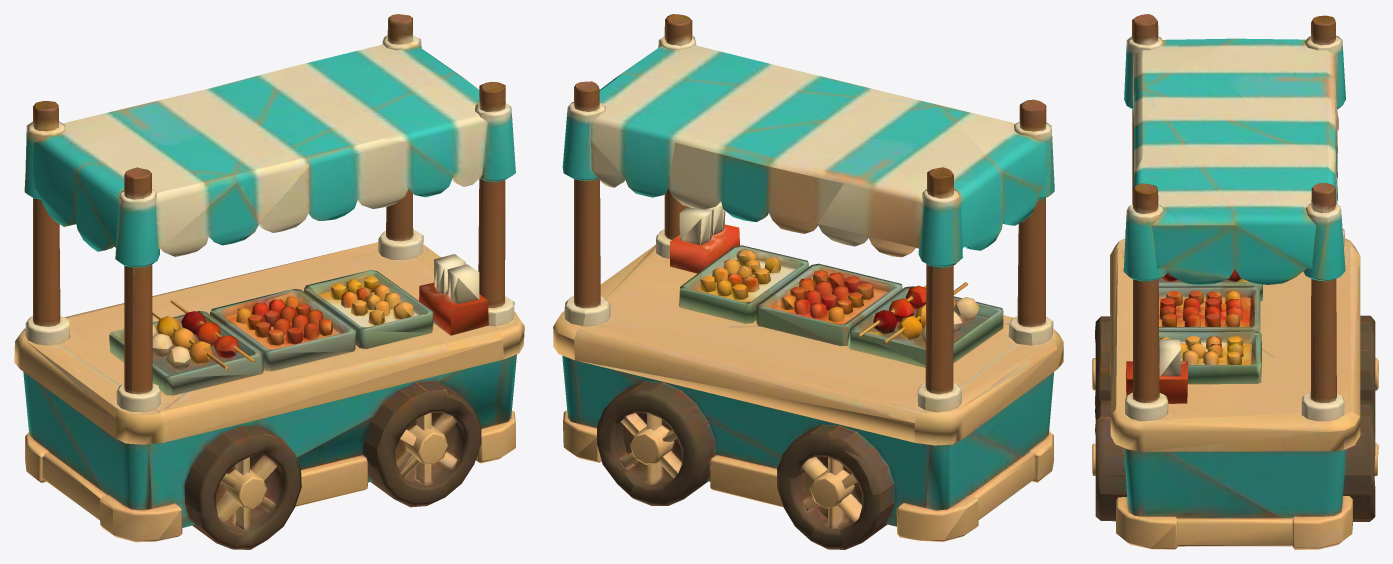
The model's file is trade_cart.glb.
3 renders of one model, left to right at view 1: azimuth 30°, elevation 25°; view 2: azimuth 150°, elevation 25°; view 3: azimuth 270°, elevation 25°, orthographic. The views are drawn at different scales.
Bounding box in the file's own units: 1 × 0.9062 × 0.6328.
1 material, 1 textured.
